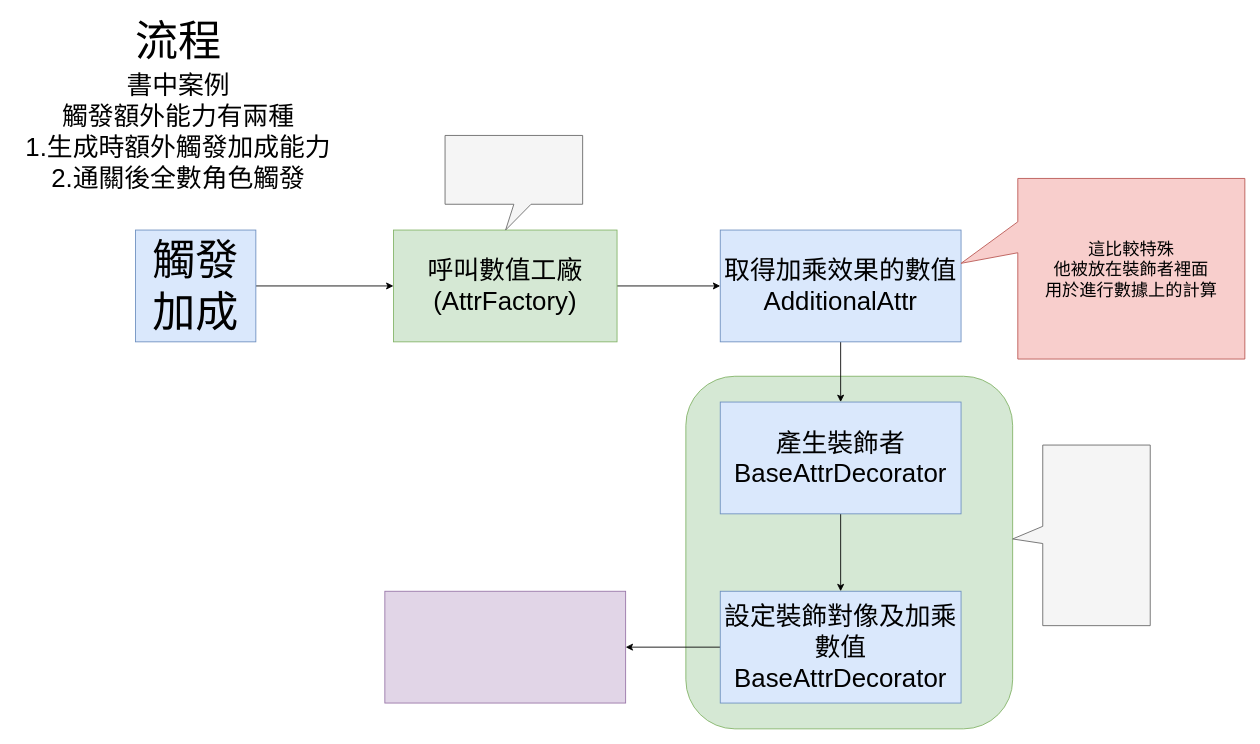
Image size: 1260x744. Some labels were removed from this diagram. Here are the shapes that lost their labels. From the top down, the centre of each, then its label:
At (513,182): "這是享元工廠".
At (1081,535): "這是裝飾者".
At (505,646): "設定新的數值後回傳 Soldier".
